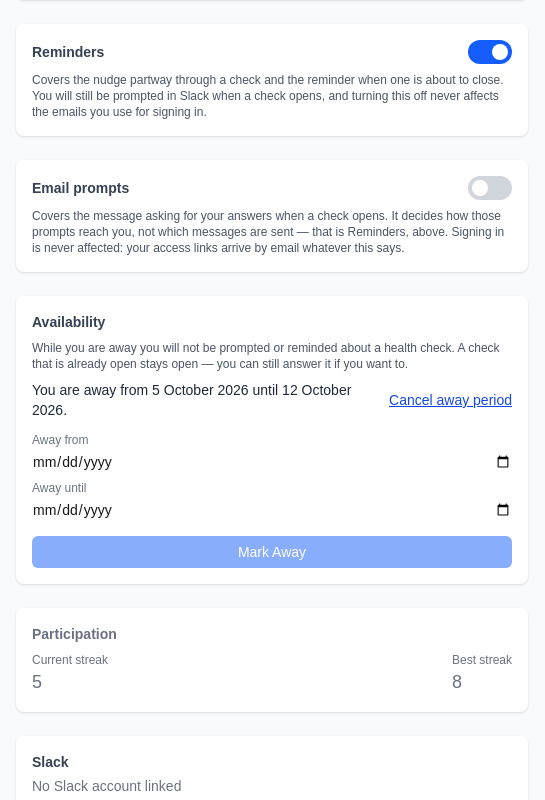
Scenario: cancelling an away period › removes it from the page
This screenshot has width=545, height=800.
(page scrolled)
Click the button "Cancel away period".
click(450, 400)  # box [389,390,512,410]
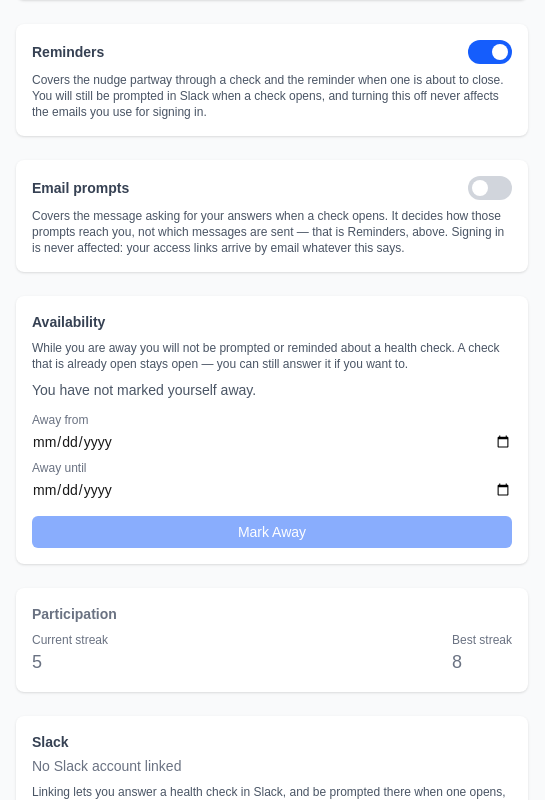
expect the text "You have not marked yourself away." is shown: met, box [32,382,256,398]
